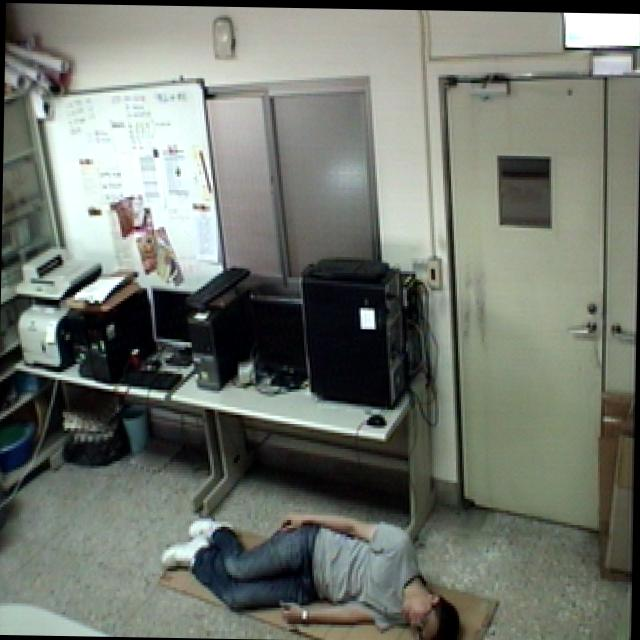lie: (154, 493, 462, 640)
